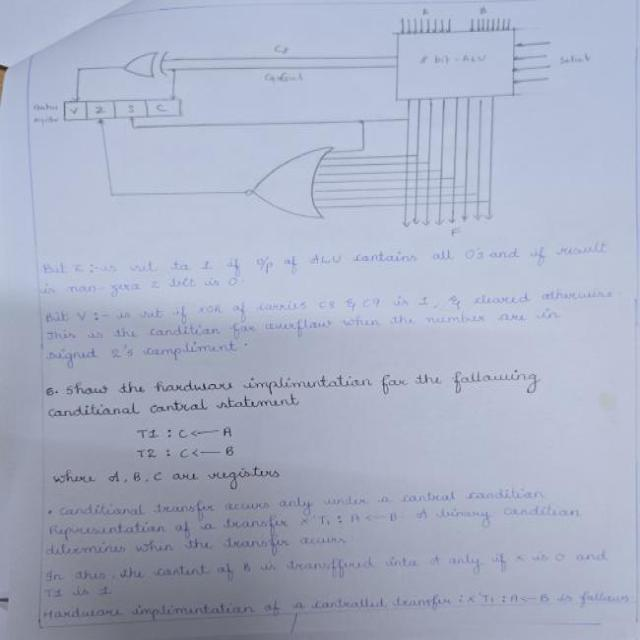Figure Detection - v3 Dataset Version2: (26, 1, 606, 246)
